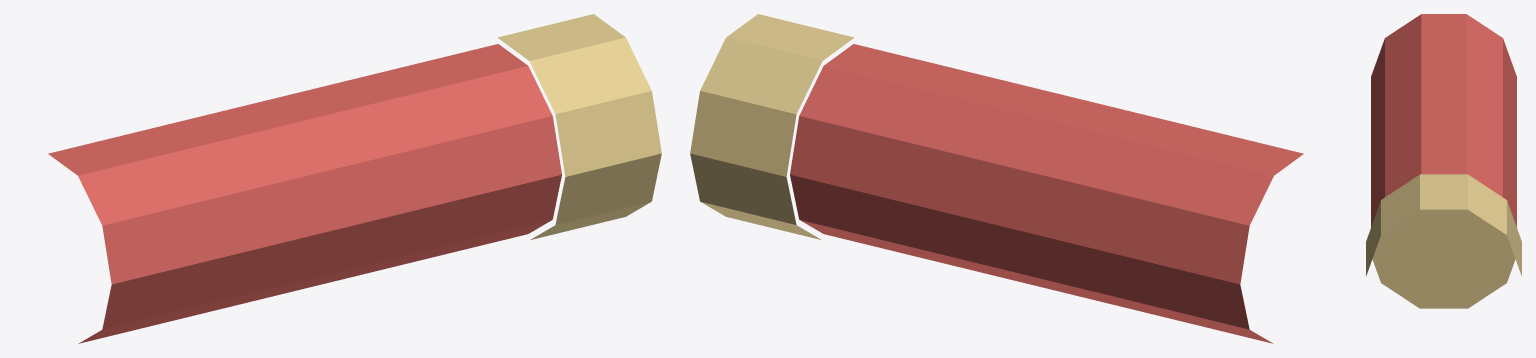
Rendered from shell.gltf.
3 renders of one model, left to right at view 1: azimuth 30°, elevation 25°; view 2: azimuth 150°, elevation 25°; view 3: azimuth 270°, elevation 25°, orthographic. The views are drawn at different scales.
Visible parts, largest first — view 1: shell; view 2: shell; view 3: shell.
Boxes of the visible parts, x1=… form: shell: x1=48, y1=14, x2=661, y2=343; shell: x1=690, y1=14, x2=1303, y2=343; shell: x1=1366, y1=14, x2=1521, y2=308.
Size of the model in its own units: 0.068 by 0.0213 by 0.0224.
